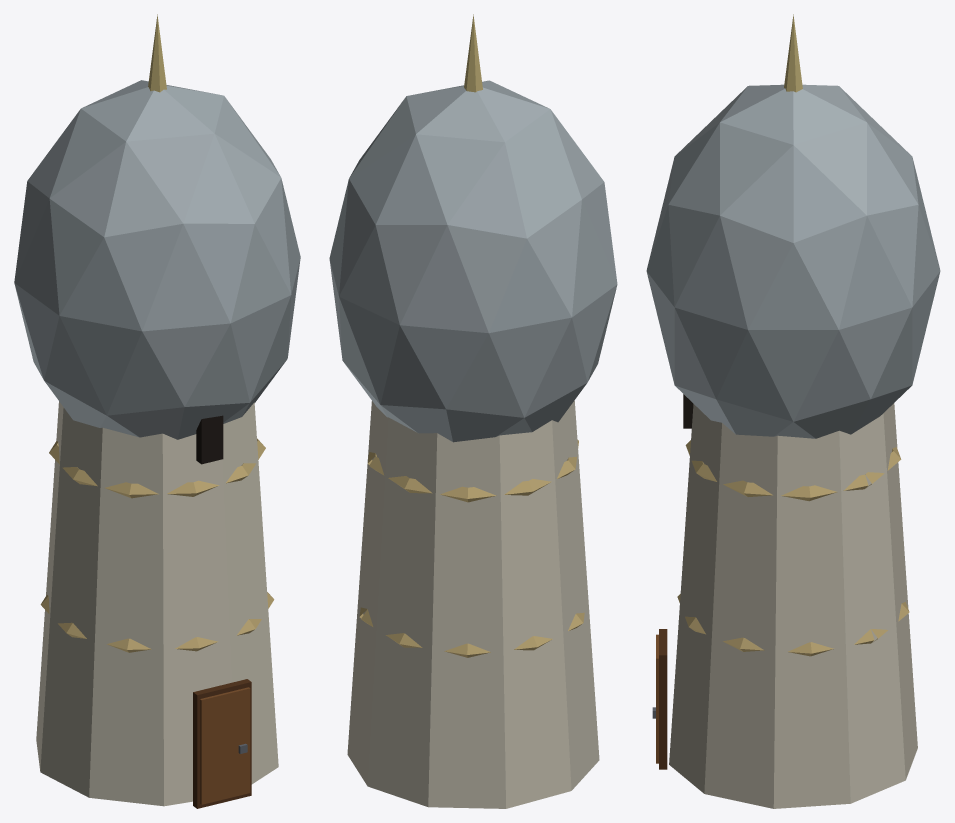
The model's file is elf_house_b_broken.glb.
3 views of the same model, side by side, from view 1: azimuth 30°, elevation 25°; view 2: azimuth 150°, elevation 25°; view 3: azimuth 270°, elevation 25° (orthographic).
Parts seen in each view (by area): view 1: elf_house_b_piece1, elf_house_b_piece0, elf_house_b_piece3, elf_house_b_piece11, elf_house_b_piece12, elf_house_b_piece5, elf_house_b_piece2, elf_house_b_piece4; view 2: elf_house_b_piece1, elf_house_b_piece3, elf_house_b_piece4, elf_house_b_piece7, elf_house_b_piece2, elf_house_b_piece6, elf_house_b_piece9, elf_house_b_piece0, elf_house_b_piece10, elf_house_b_piece11, elf_house_b_piece12; view 3: elf_house_b_piece3, elf_house_b_piece8, elf_house_b_piece0, elf_house_b_piece6, elf_house_b_piece1, elf_house_b_piece12, elf_house_b_piece9, elf_house_b_piece10, elf_house_b_piece5, elf_house_b_piece7.
Boxes of the visible parts, <box> form: elf_house_b_piece1: <box>14,14,228,422</box>; elf_house_b_piece0: <box>56,126,297,560</box>; elf_house_b_piece3: <box>36,489,278,808</box>; elf_house_b_piece11: <box>62,508,228,712</box>; elf_house_b_piece12: <box>62,91,265,426</box>; elf_house_b_piece5: <box>76,397,263,767</box>; elf_house_b_piece2: <box>40,508,83,769</box>; elf_house_b_piece4: <box>47,401,77,691</box>; elf_house_b_piece1: <box>384,14,617,436</box>; elf_house_b_piece3: <box>347,467,599,808</box>; elf_house_b_piece4: <box>385,339,584,672</box>; elf_house_b_piece7: <box>398,509,573,787</box>; elf_house_b_piece2: <box>399,379,593,782</box>; elf_house_b_piece6: <box>330,259,440,598</box>; elf_house_b_piece9: <box>344,145,424,344</box>; elf_house_b_piece0: <box>356,126,583,563</box>; elf_house_b_piece10: <box>331,205,405,427</box>; elf_house_b_piece11: <box>564,527,593,675</box>; elf_house_b_piece12: <box>369,90,564,438</box>; elf_house_b_piece3: <box>652,492,917,808</box>; elf_house_b_piece8: <box>703,242,868,500</box>; elf_house_b_piece0: <box>646,186,838,486</box>; elf_house_b_piece6: <box>803,301,917,574</box>; elf_house_b_piece1: <box>660,14,935,252</box>; elf_house_b_piece12: <box>648,130,861,261</box>; elf_house_b_piece9: <box>813,154,940,306</box>; elf_house_b_piece10: <box>849,243,928,361</box>; elf_house_b_piece5: <box>683,410,749,558</box>; elf_house_b_piece7: <box>898,478,908,615</box>.
Bounding box in the file's own units: 1.33 × 3.9 × 1.4.
